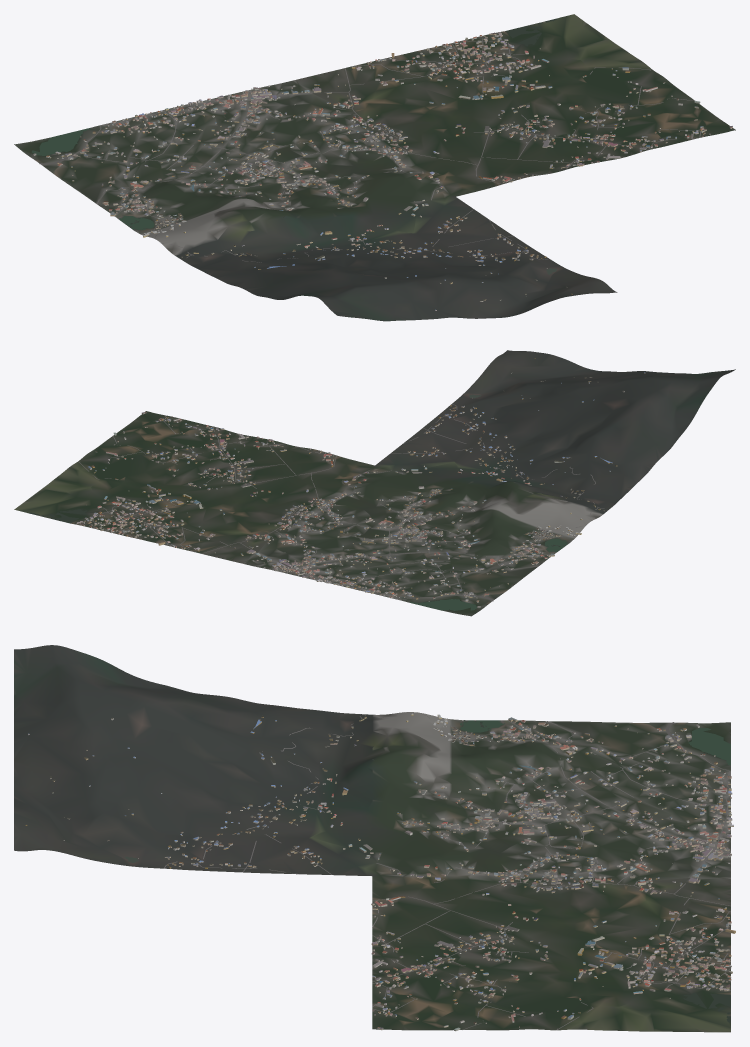
3 views of the same model, one above another, from view 1: azimuth 30°, elevation 25°; view 2: azimuth 150°, elevation 25°; view 3: azimuth 270°, elevation 25° (orthographic). The views are drawn at different scales.
Visible parts, largest first — view 1: ground, buildings, roads, water; view 2: ground, buildings, roads, water; view 3: ground, buildings, roads, water.
Part boxes in pixels (x1,y1,x2,y2): ground: [14, 14, 735, 321]; buildings: [33, 32, 732, 310]; roads: [39, 38, 700, 262]; water: [31, 18, 557, 274]; ground: [14, 350, 735, 616]; buildings: [76, 358, 645, 607]; roads: [76, 404, 604, 601]; water: [29, 394, 569, 610]; ground: [14, 645, 730, 1032]; buildings: [25, 713, 735, 1031]; roads: [164, 712, 730, 1030]; water: [124, 720, 730, 1022].
Size of the model in its own units: 2828 by 366 by 2823.
